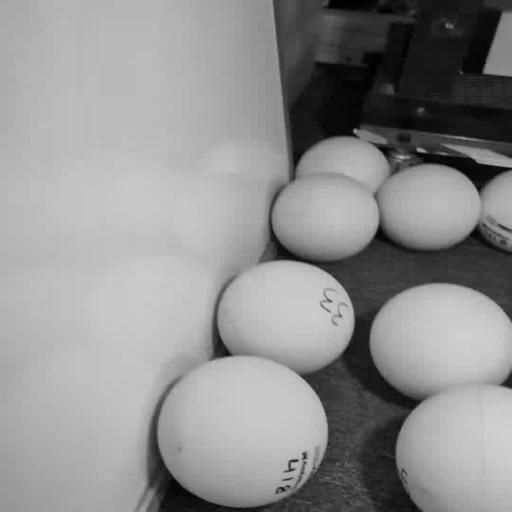fuel: (157, 260, 355, 507), (370, 283, 512, 512), (272, 138, 389, 262), (378, 164, 512, 252)
